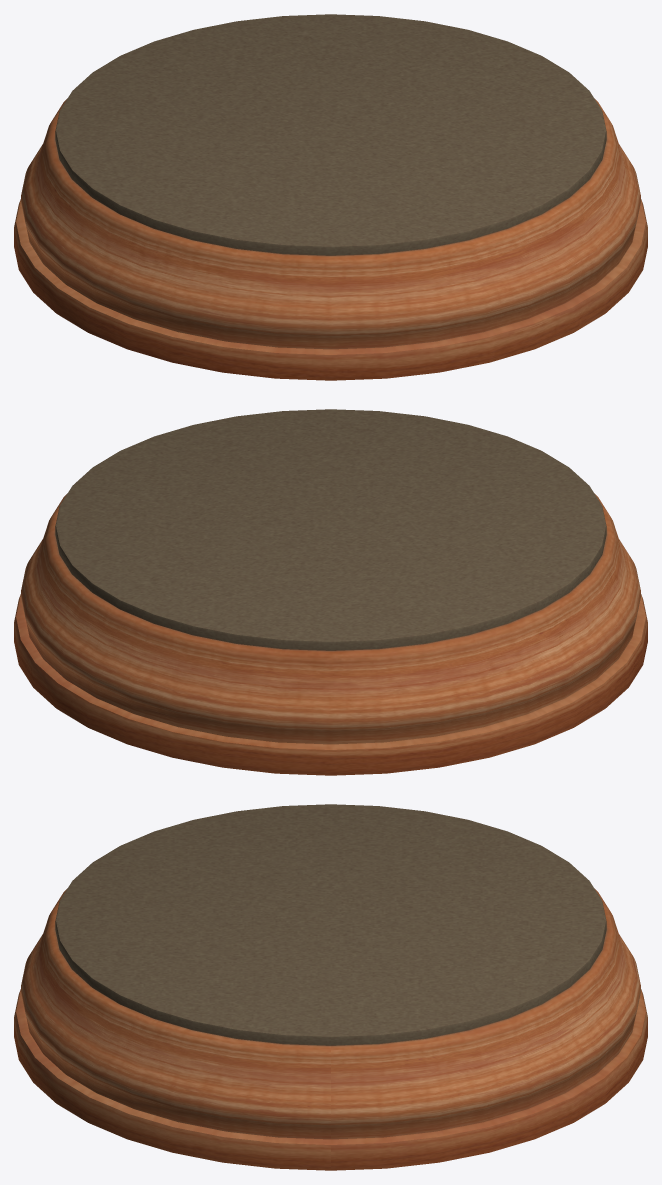
File: Turntable.FBX
3 views of the same model, one above another, from view 1: azimuth 30°, elevation 25°; view 2: azimuth 150°, elevation 25°; view 3: azimuth 270°, elevation 25° (orthographic).
Parts seen in each view (by area): view 1: Turntable; view 2: Turntable; view 3: Turntable.
Boxes of the visible parts, x1,y1,x2,y2 form: Turntable: (14, 14, 647, 380); Turntable: (14, 409, 647, 775); Turntable: (14, 804, 647, 1170).
Bounding box in the file's own units: 949 × 193 × 949.
Materials: 1 (1 with a texture image).
